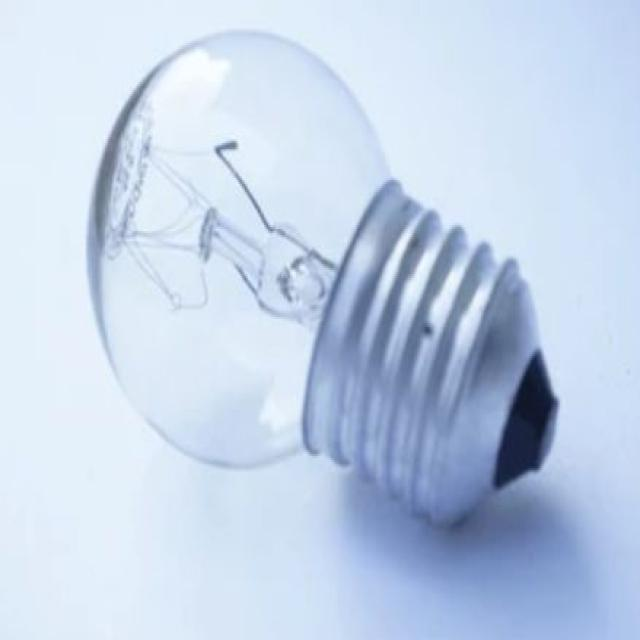electronic: (84, 25, 560, 528)
